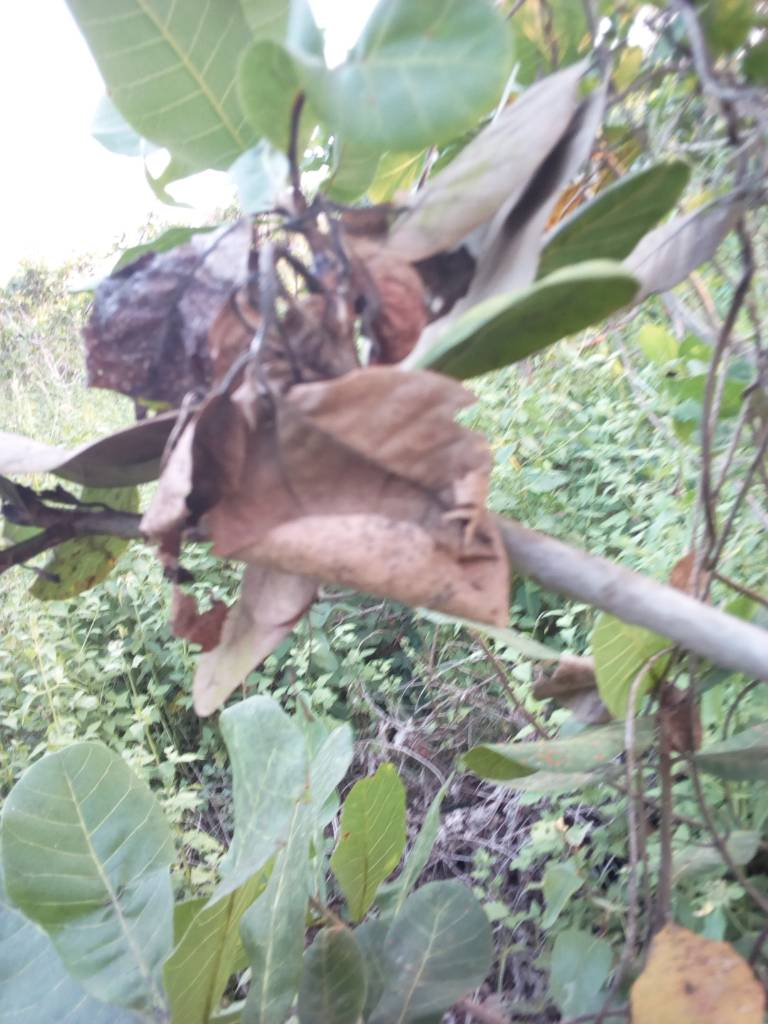Dessèchement des bourgeons: (115, 184, 332, 374)
